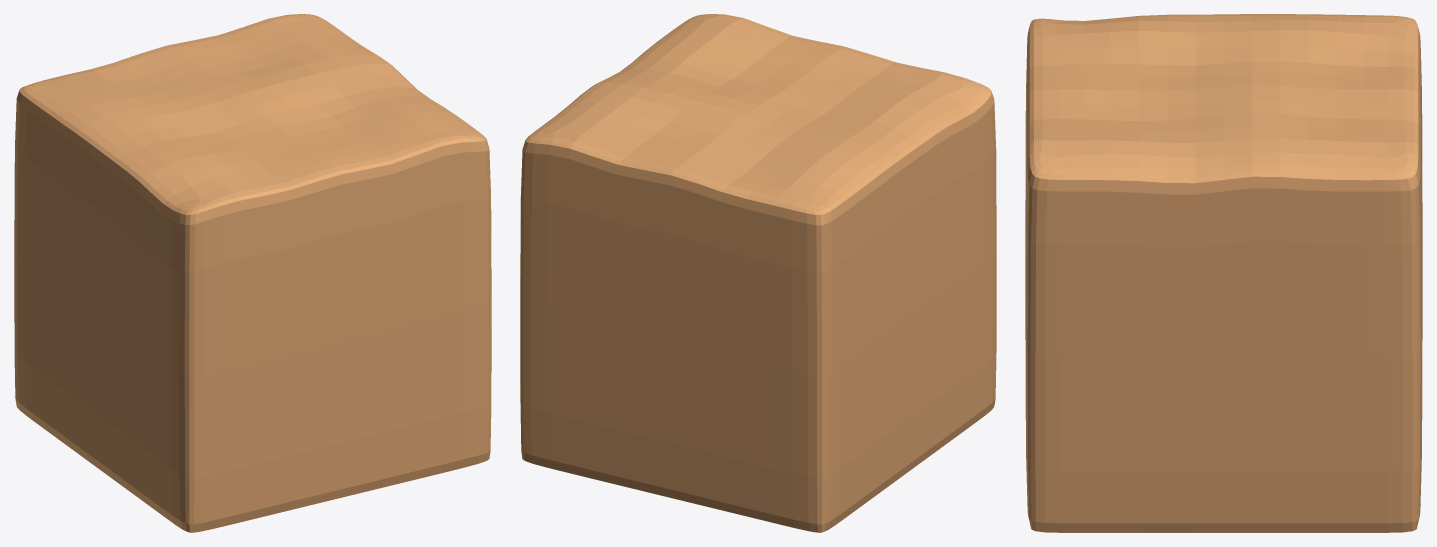
The model's file is areia superfice sem nada.fbx.
3 views of the same model, side by side, from view 1: azimuth 30°, elevation 25°; view 2: azimuth 150°, elevation 25°; view 3: azimuth 270°, elevation 25° (orthographic). The views are drawn at different scales.
Parts seen in each view (by area): view 1: Cube.002; view 2: Cube.002; view 3: Cube.002.
Part boxes in pixels (x1=…): Cube.002: x1=14, y1=14, x2=491, y2=532; Cube.002: x1=520, y1=14, x2=996, y2=532; Cube.002: x1=1025, y1=14, x2=1422, y2=532.
Bounding box in the file's own units: 2 × 2.06 × 2.
